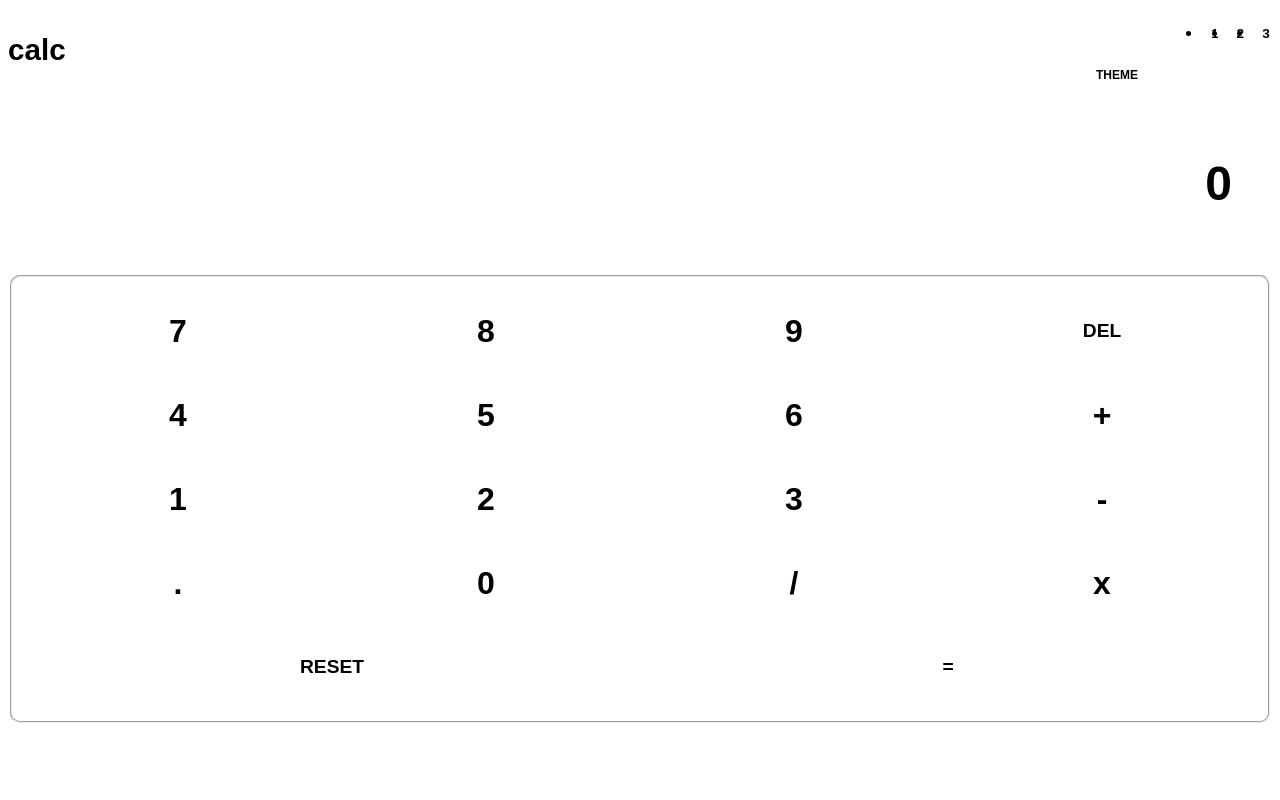
Scenario: Calculator › can perform basic addition
Click the button "1" at (178, 499), box x1=36 y1=469 x2=320 y2=529
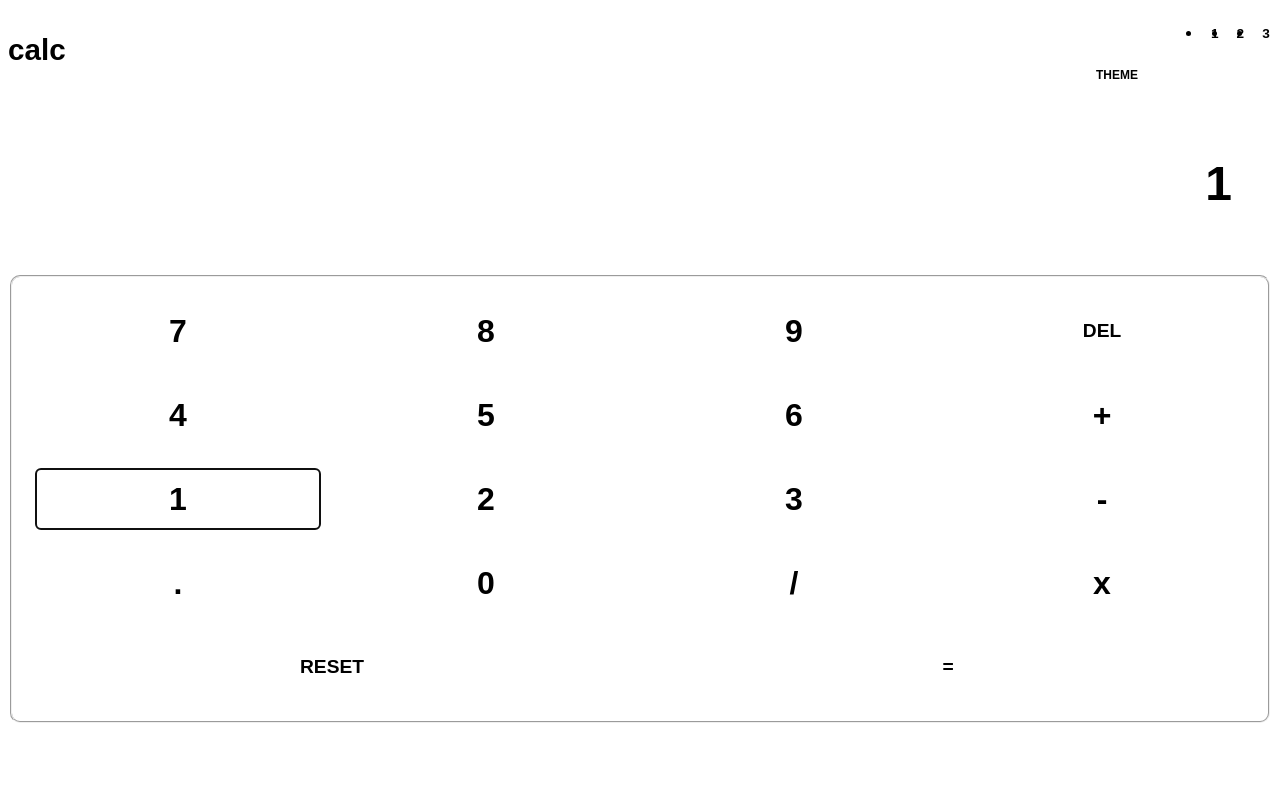
Click the button "+" at (1102, 415), box x1=960 y1=385 x2=1244 y2=445
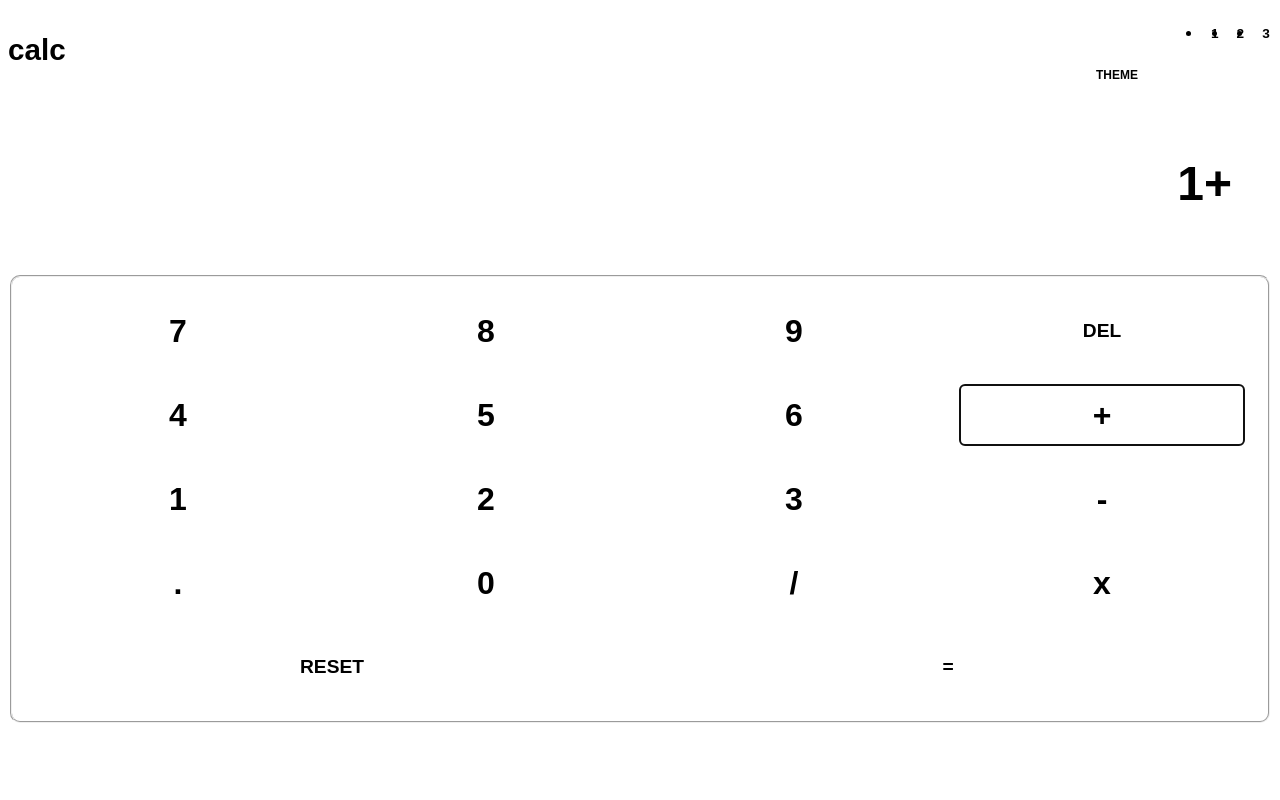
Click the button "2" at (486, 499), box x1=344 y1=469 x2=628 y2=529
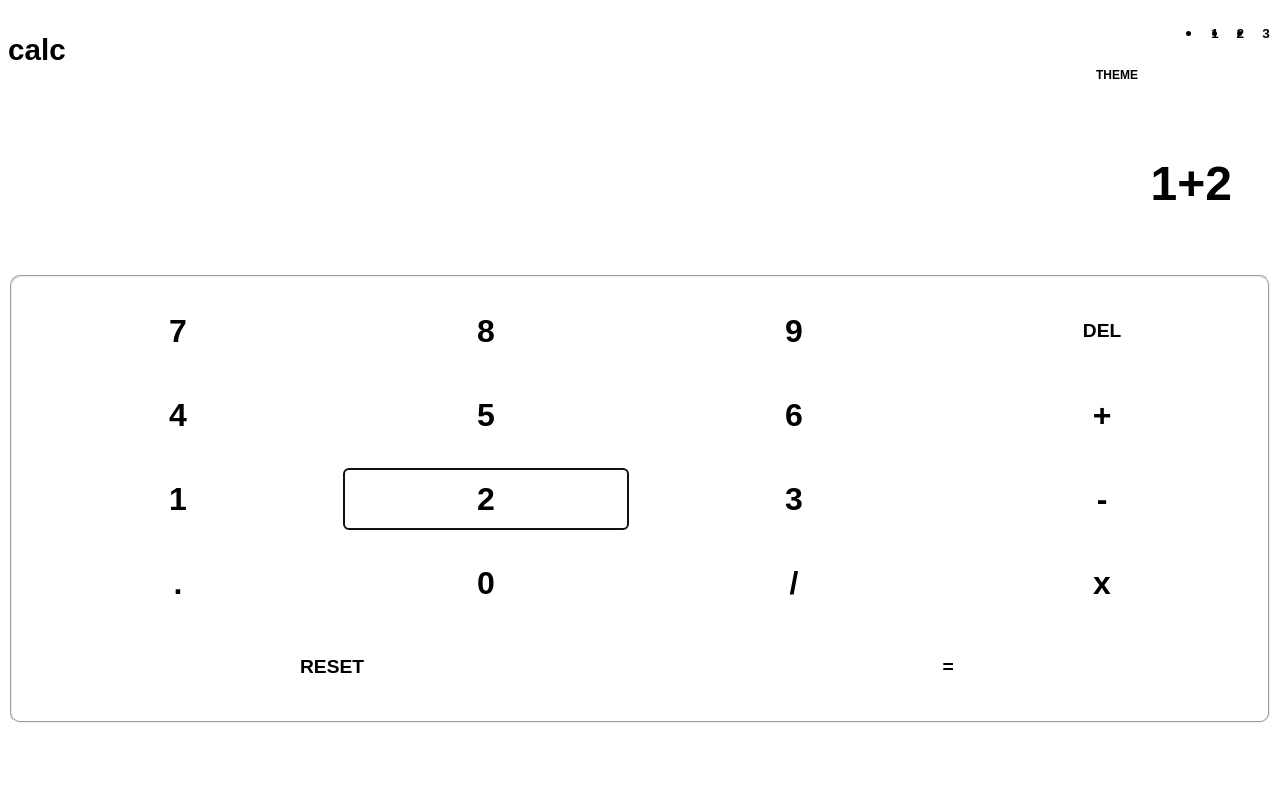
Click the button "=" at (948, 667), box x1=652 y1=637 x2=1244 y2=697
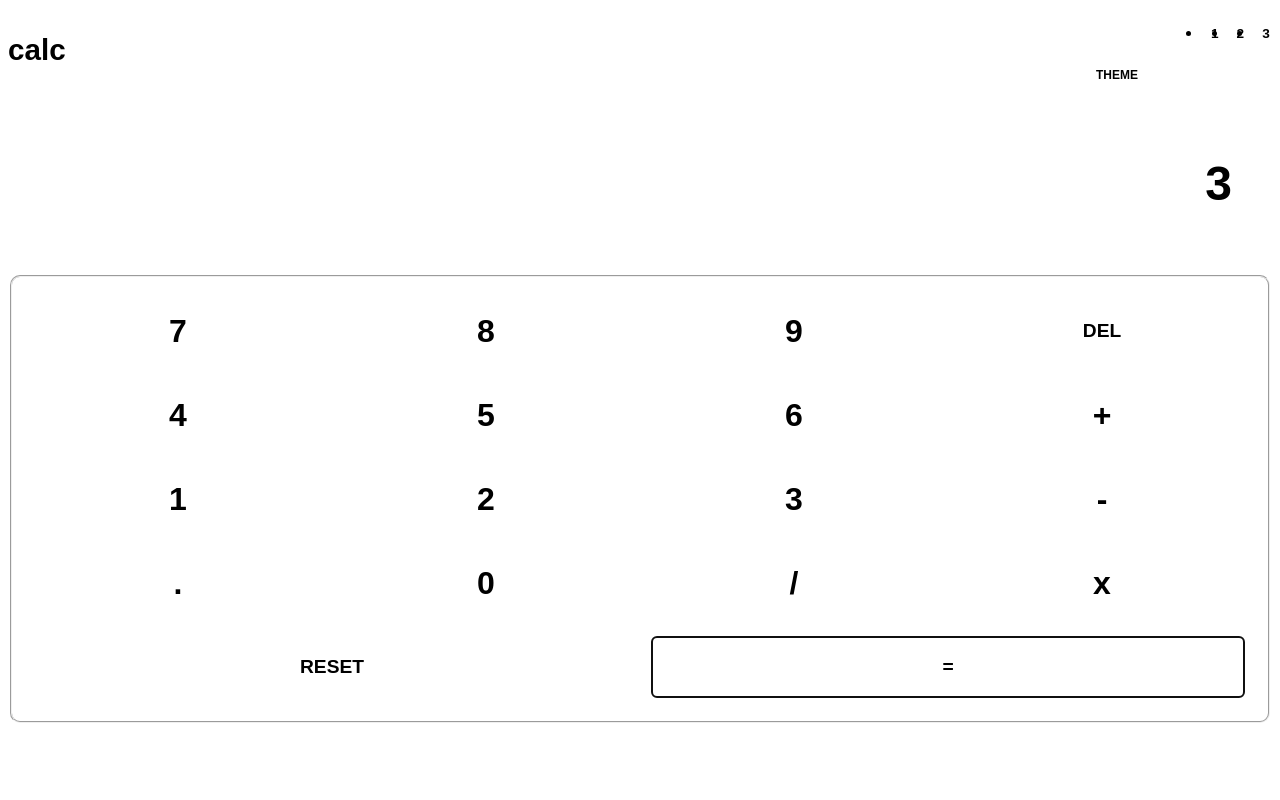
Now the text with test id "display" reads "3", box x1=1205 y1=157 x2=1232 y2=210
